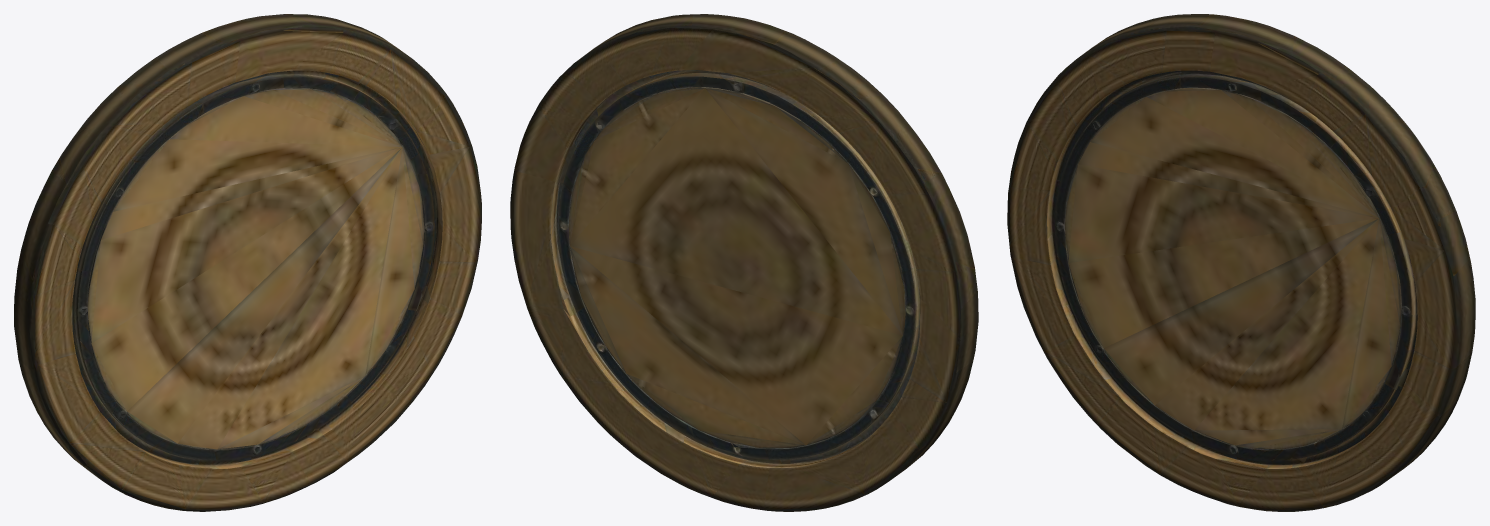
The model's file is plate.glb.
3 renders of one model, left to right at view 1: azimuth 30°, elevation 25°; view 2: azimuth 150°, elevation 25°; view 3: azimuth 330°, elevation 25°, orthographic.
Size of the model in its own units: 1.9 by 1.9 by 0.1329.
Materials: 1 (1 with a texture image).
